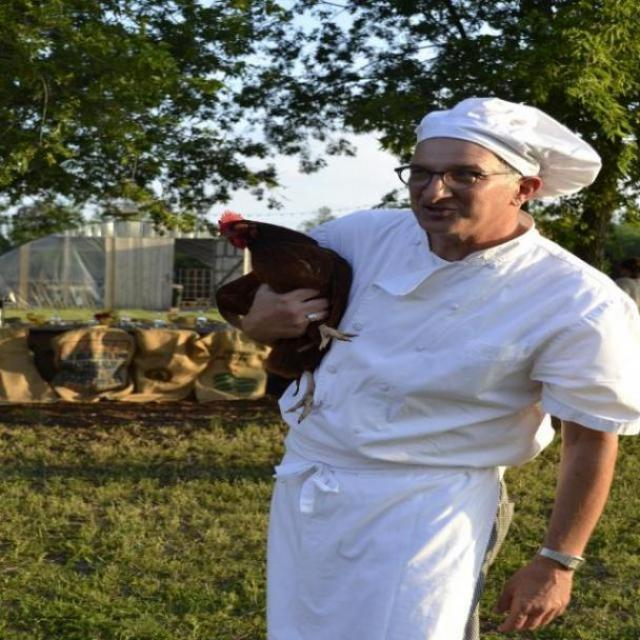Chicken: (206, 202, 366, 382)
